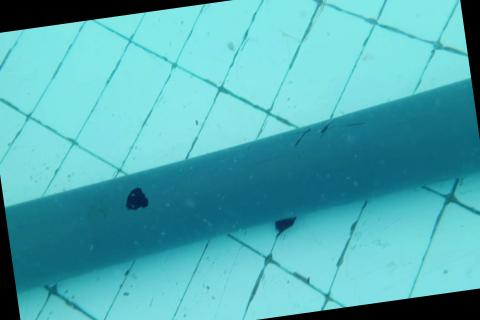kebocoran: (123, 185, 150, 212)
keretakan: (283, 113, 367, 148)
